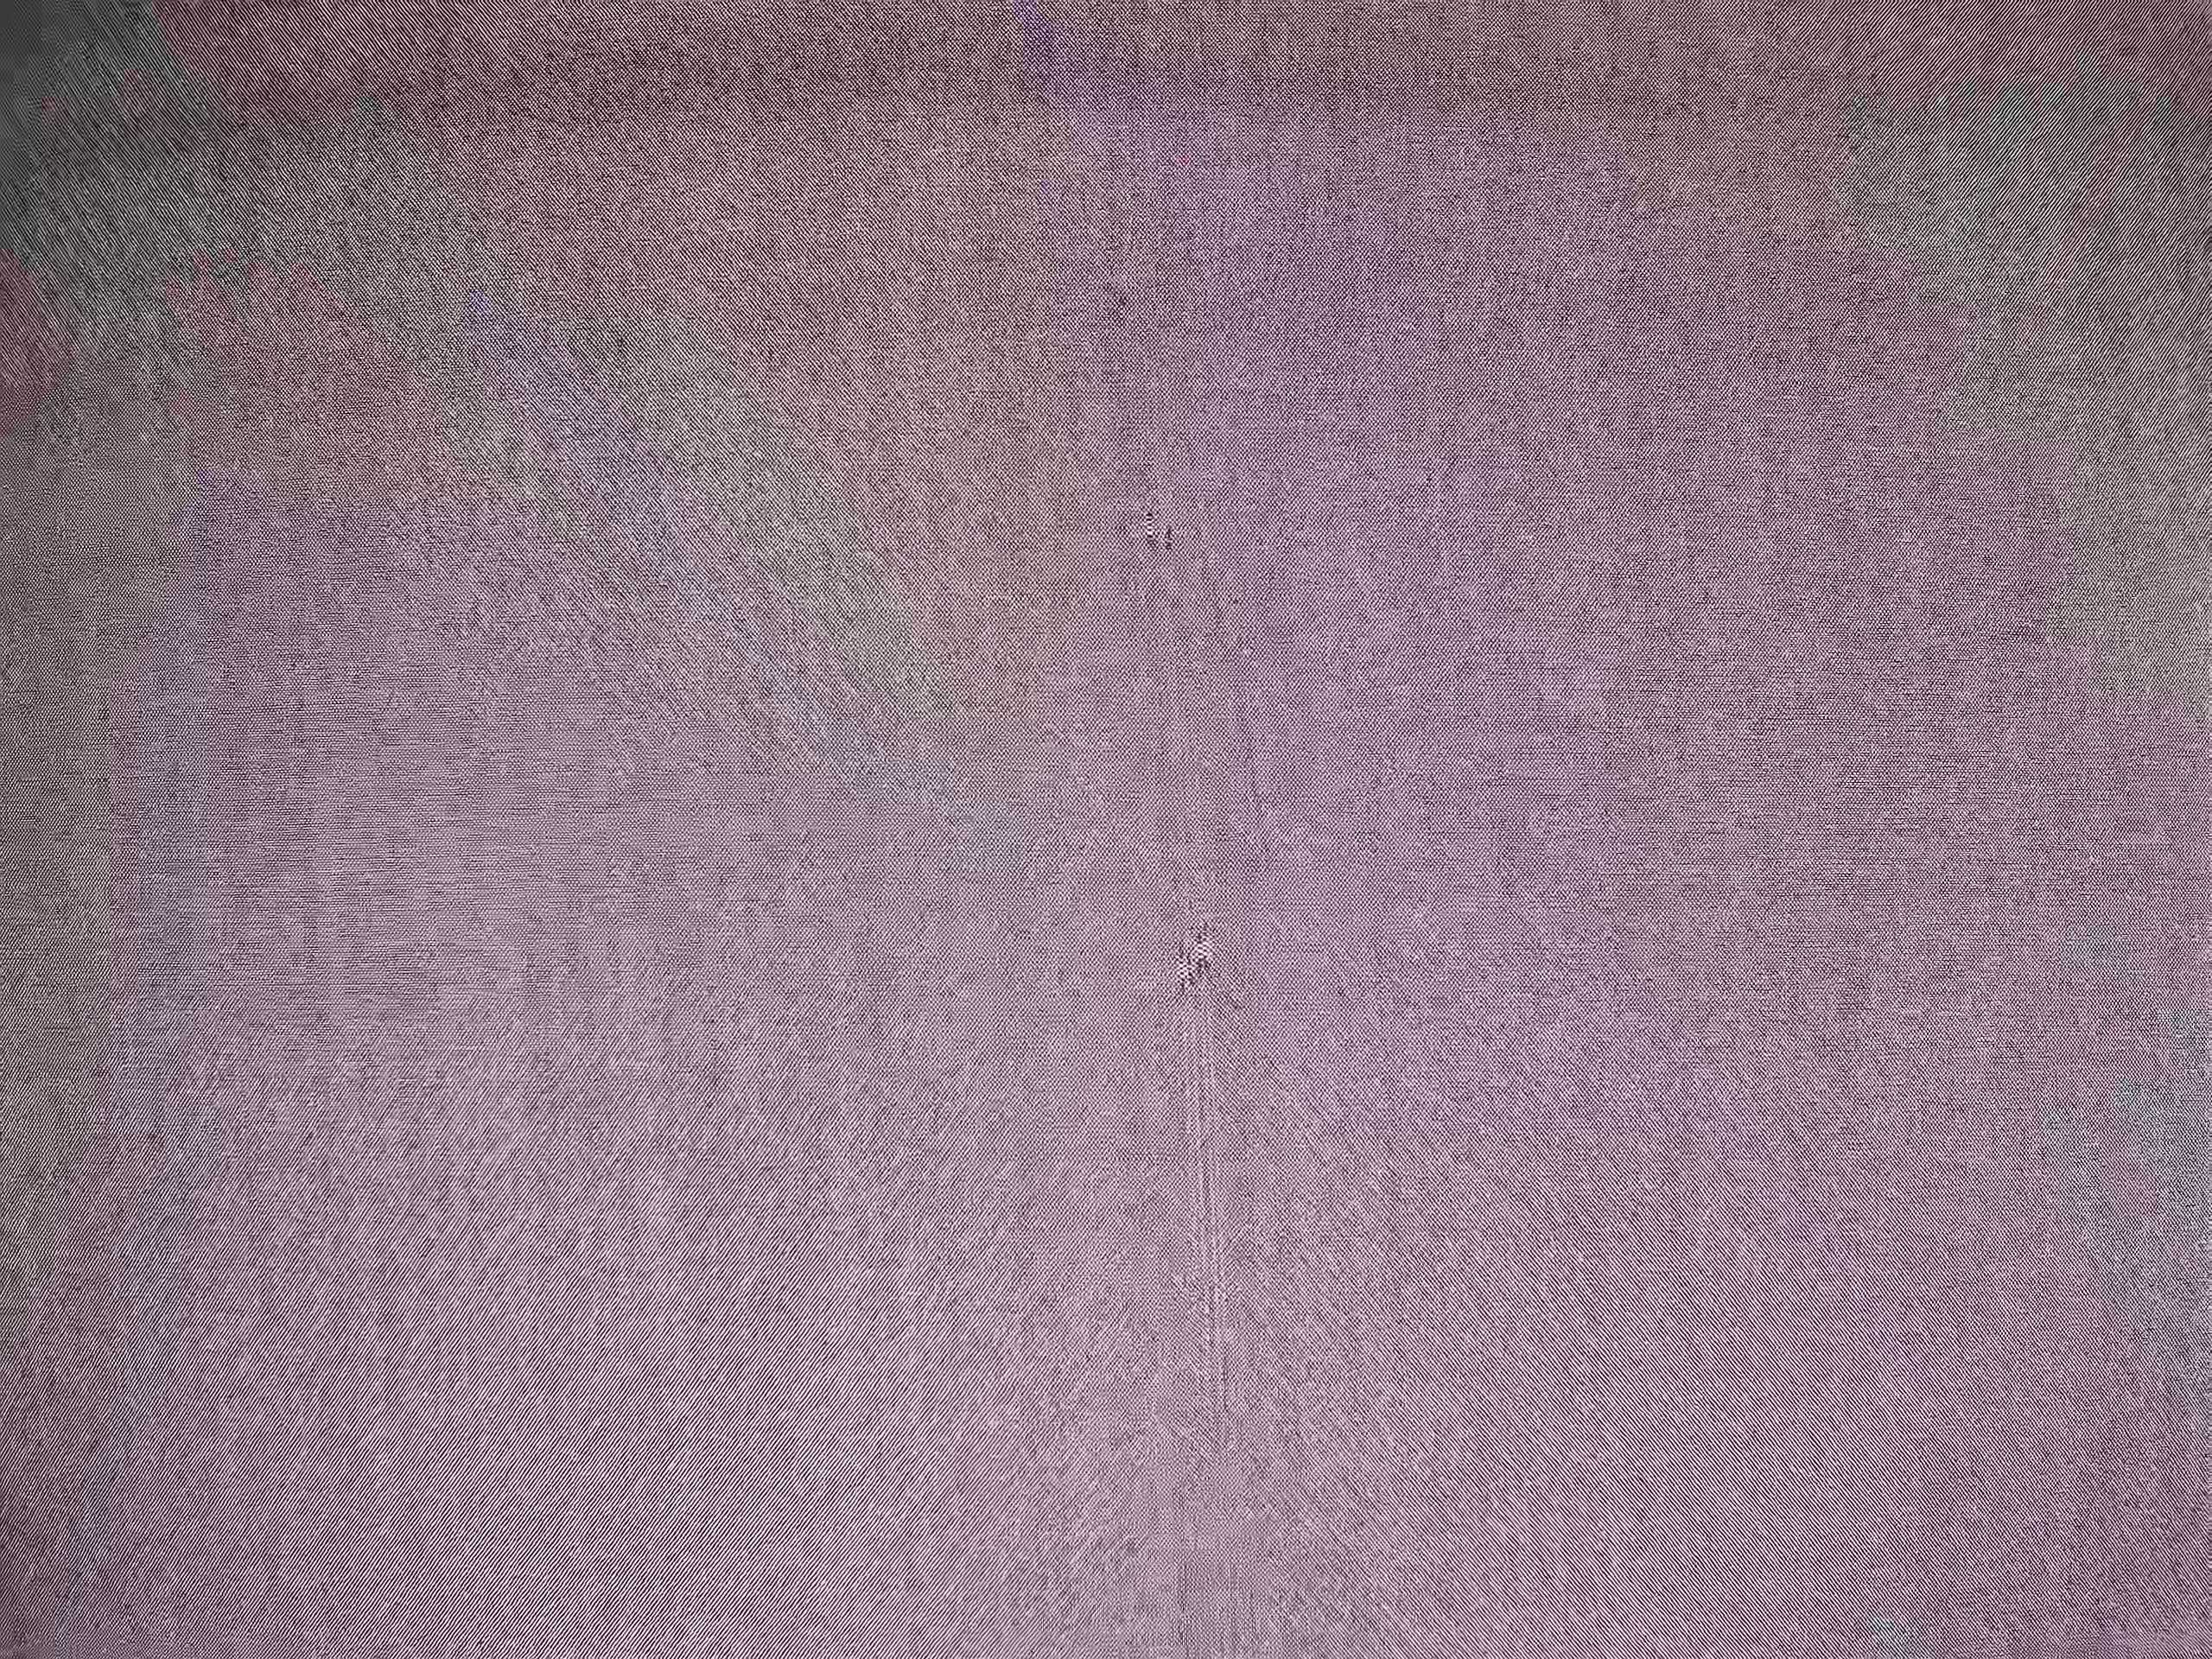hanging-warp: (1169, 901, 1247, 1466), (1123, 437, 1190, 577)
